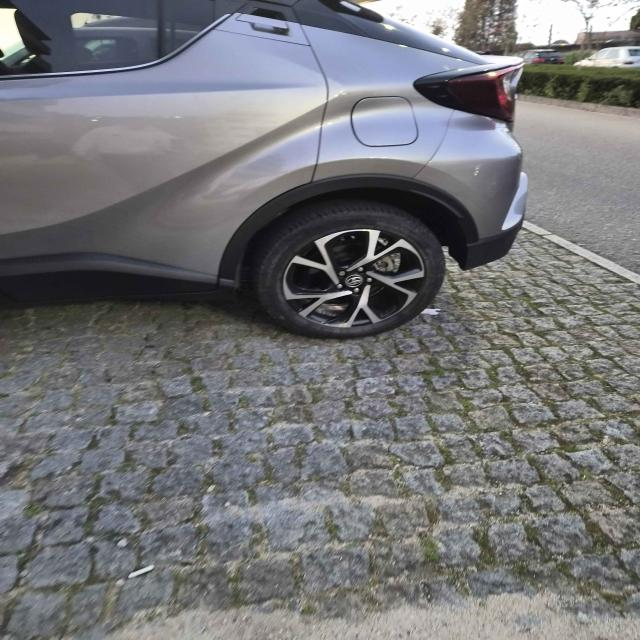jante: (280, 228, 426, 327)
parafuso: (352, 266, 367, 274), (350, 287, 362, 296), (337, 269, 348, 278), (364, 276, 374, 284), (334, 283, 345, 290)
roda: (243, 197, 450, 339)
